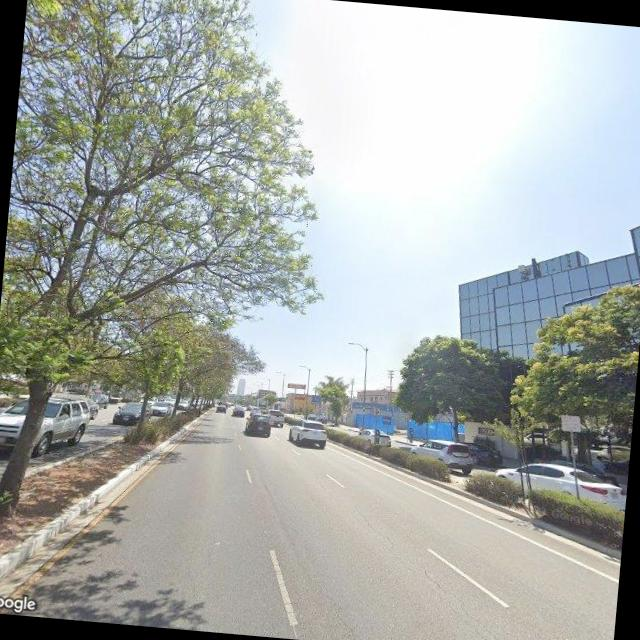pothole: (407, 556, 525, 640), (350, 504, 397, 544)
